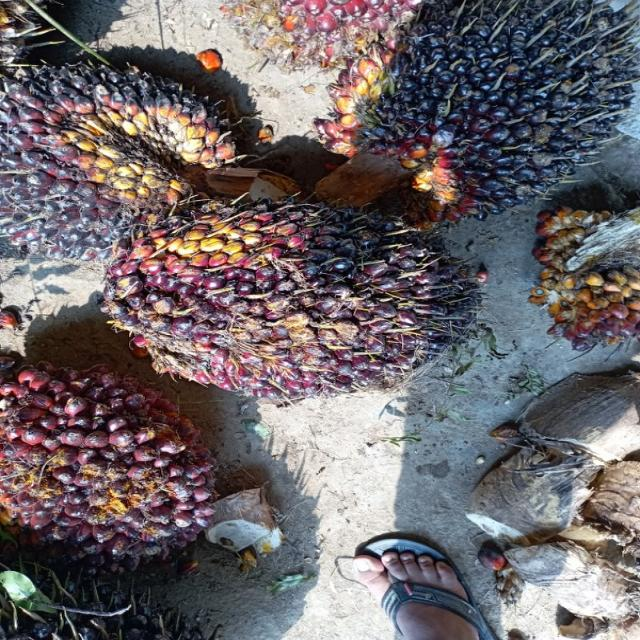fraksi 00: (317, 0, 640, 211), (0, 50, 257, 271)
fraksi 1: (92, 194, 476, 392), (0, 349, 216, 560)
